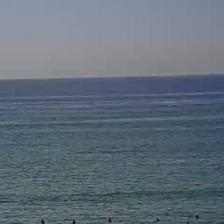surfer: (40, 218, 47, 224), (194, 214, 200, 220), (107, 218, 112, 223), (156, 217, 160, 222), (72, 219, 76, 223), (186, 222, 192, 223)
